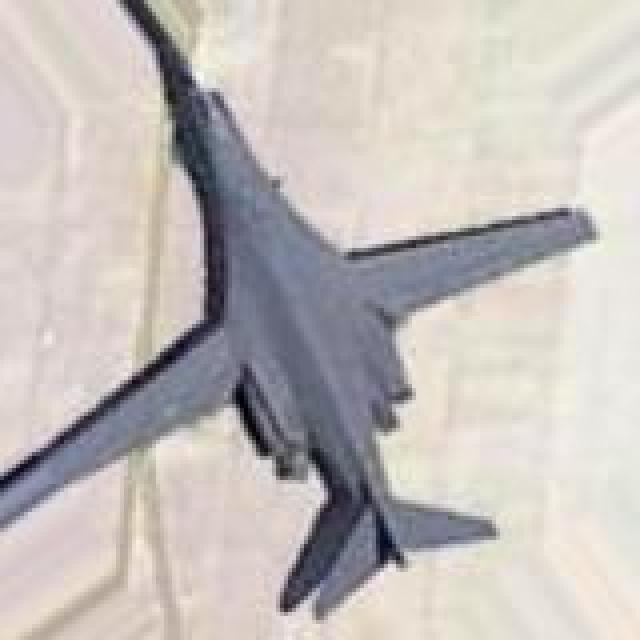B-1_TopDown: (0, 0, 600, 624)
